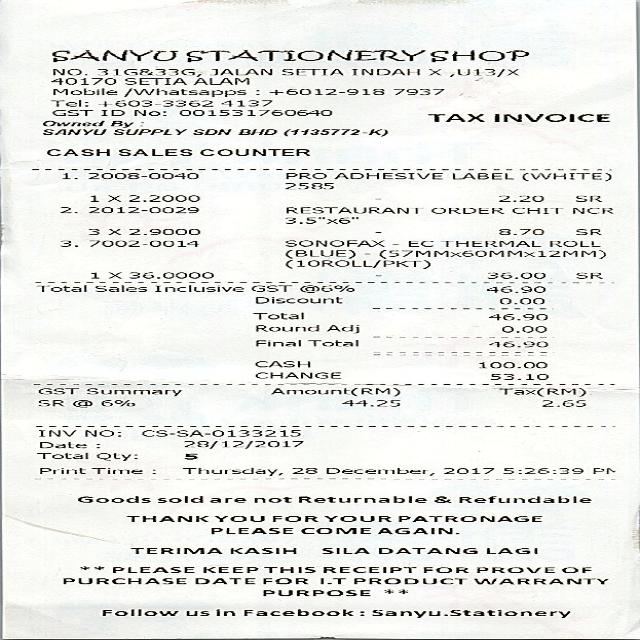text: (183, 49, 423, 60), (377, 249, 603, 257), (370, 608, 567, 616), (51, 50, 176, 61), (428, 49, 527, 61), (284, 259, 428, 267), (140, 429, 299, 436), (122, 87, 244, 96), (268, 388, 398, 396), (285, 206, 421, 213), (183, 440, 301, 448), (492, 112, 607, 120), (178, 109, 330, 115), (333, 171, 442, 179), (396, 516, 540, 522), (97, 68, 199, 76), (284, 128, 386, 136), (472, 577, 606, 583), (458, 496, 590, 502), (197, 148, 307, 155), (242, 608, 352, 615), (297, 496, 425, 502), (85, 388, 180, 396), (62, 577, 185, 583), (521, 172, 610, 180), (96, 100, 212, 106), (181, 467, 280, 474), (497, 388, 583, 396), (268, 88, 382, 94), (86, 172, 198, 178), (352, 577, 464, 583), (88, 206, 198, 212), (88, 240, 198, 246), (260, 590, 368, 596), (326, 467, 427, 473), (255, 296, 341, 303), (439, 240, 538, 246), (377, 547, 476, 553), (283, 240, 381, 246), (255, 371, 339, 378), (282, 249, 352, 257), (127, 547, 220, 553), (322, 566, 415, 572), (448, 68, 517, 76), (100, 608, 176, 615), (153, 284, 241, 290), (76, 495, 149, 502), (118, 148, 190, 155), (284, 216, 356, 223), (128, 271, 212, 277), (374, 527, 456, 533), (476, 361, 546, 368), (488, 372, 549, 380), (126, 515, 207, 521), (502, 467, 582, 473), (210, 527, 290, 533), (474, 566, 552, 572), (323, 514, 388, 521), (427, 112, 483, 120), (45, 148, 108, 155), (111, 128, 184, 134), (255, 324, 317, 331), (430, 207, 502, 213), (126, 228, 198, 234), (298, 284, 352, 292), (128, 194, 198, 200), (484, 285, 544, 292), (488, 313, 548, 320), (486, 340, 546, 347), (298, 527, 368, 533), (349, 68, 417, 74), (111, 566, 192, 571), (485, 271, 542, 278), (341, 399, 398, 406), (48, 77, 113, 83), (229, 547, 294, 553), (51, 88, 114, 94), (41, 128, 104, 134), (207, 68, 269, 74), (279, 68, 341, 74), (123, 77, 185, 83), (41, 120, 103, 126), (450, 172, 511, 178), (192, 577, 253, 583), (36, 452, 88, 459), (440, 466, 492, 473), (306, 339, 357, 346), (212, 514, 262, 521), (191, 77, 247, 83), (498, 297, 544, 304), (500, 325, 546, 332), (270, 514, 316, 521), (254, 339, 299, 346), (156, 495, 201, 502), (509, 207, 561, 213), (89, 467, 141, 473), (540, 399, 584, 406), (547, 240, 598, 246), (94, 285, 145, 291), (392, 88, 442, 94), (33, 284, 83, 290), (251, 312, 301, 318), (484, 547, 534, 553), (221, 100, 270, 106), (282, 182, 331, 188), (94, 452, 130, 460), (320, 547, 368, 553), (37, 442, 84, 448), (496, 228, 542, 234), (38, 467, 84, 473), (422, 566, 467, 572), (261, 577, 306, 583), (255, 361, 308, 366), (282, 172, 326, 178), (498, 194, 542, 200), (203, 566, 255, 571), (37, 429, 74, 436), (324, 324, 356, 332), (50, 109, 91, 115), (84, 429, 119, 436), (250, 284, 290, 290), (36, 387, 76, 393), (266, 566, 313, 571), (571, 207, 610, 213), (48, 100, 86, 106), (191, 128, 229, 134), (236, 128, 274, 134), (253, 496, 290, 502), (51, 68, 85, 74), (573, 271, 601, 278), (132, 109, 164, 115), (100, 399, 132, 405), (208, 497, 244, 502), (561, 566, 590, 572), (574, 194, 600, 200), (574, 228, 600, 234), (36, 399, 62, 405), (319, 577, 344, 583), (213, 609, 234, 616), (407, 240, 431, 246), (290, 467, 314, 473), (99, 109, 122, 115), (70, 399, 89, 406), (108, 120, 130, 126), (592, 467, 613, 473), (59, 239, 76, 246), (56, 206, 71, 213), (432, 496, 449, 502), (184, 610, 207, 614), (427, 68, 440, 75), (106, 194, 119, 200), (59, 172, 70, 178), (86, 228, 97, 234), (108, 228, 119, 234), (108, 271, 119, 277), (183, 453, 196, 458), (90, 271, 98, 278), (90, 194, 96, 200)
